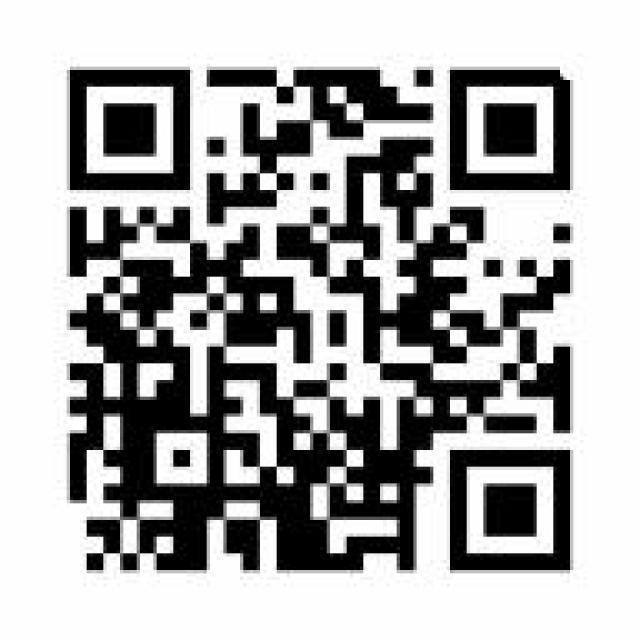qr_code: (67, 67, 573, 573)
